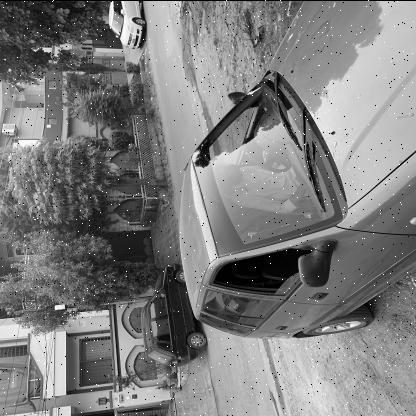no_seatbelt: (210, 160, 292, 190)
